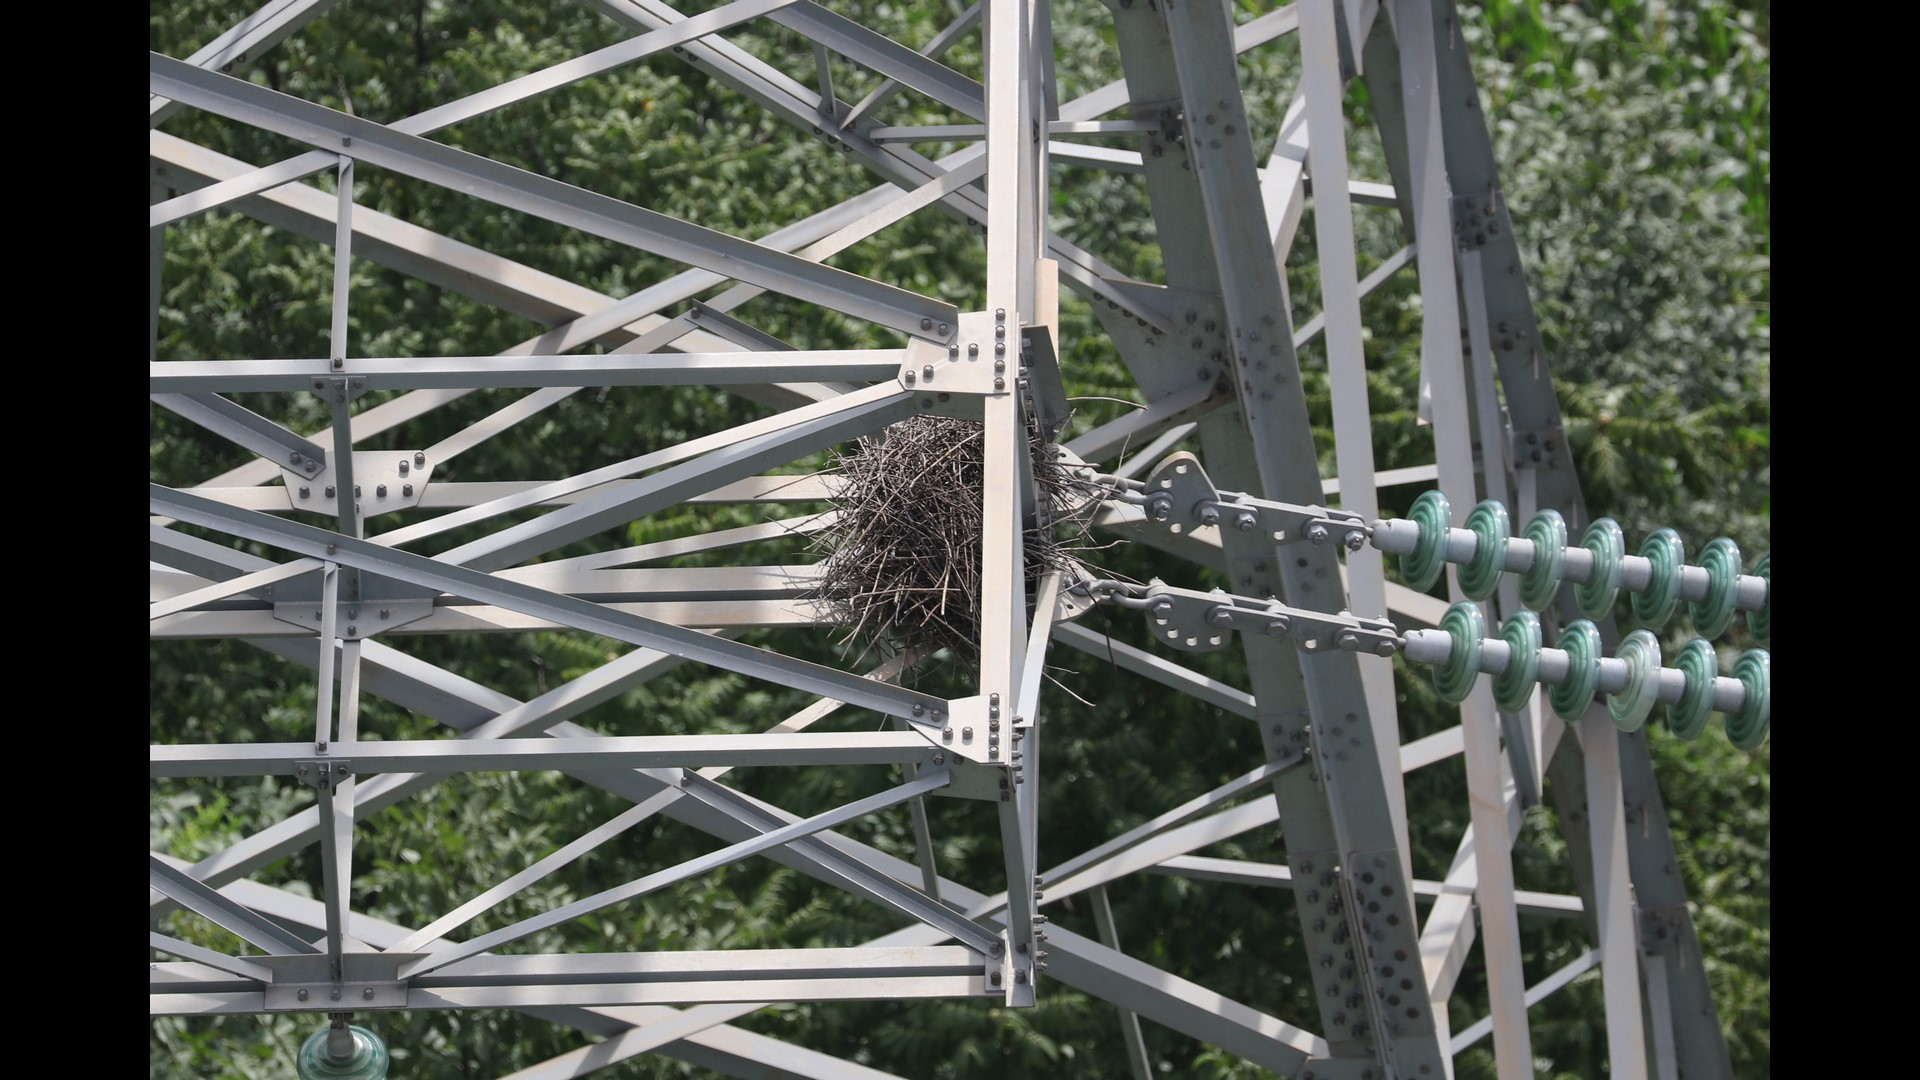niaowo: (800, 401, 1091, 647)
